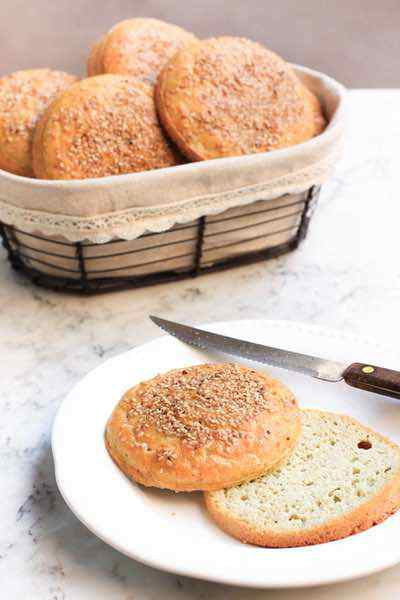hamburger_buns: (116, 343, 400, 555), (1, 12, 305, 172)
